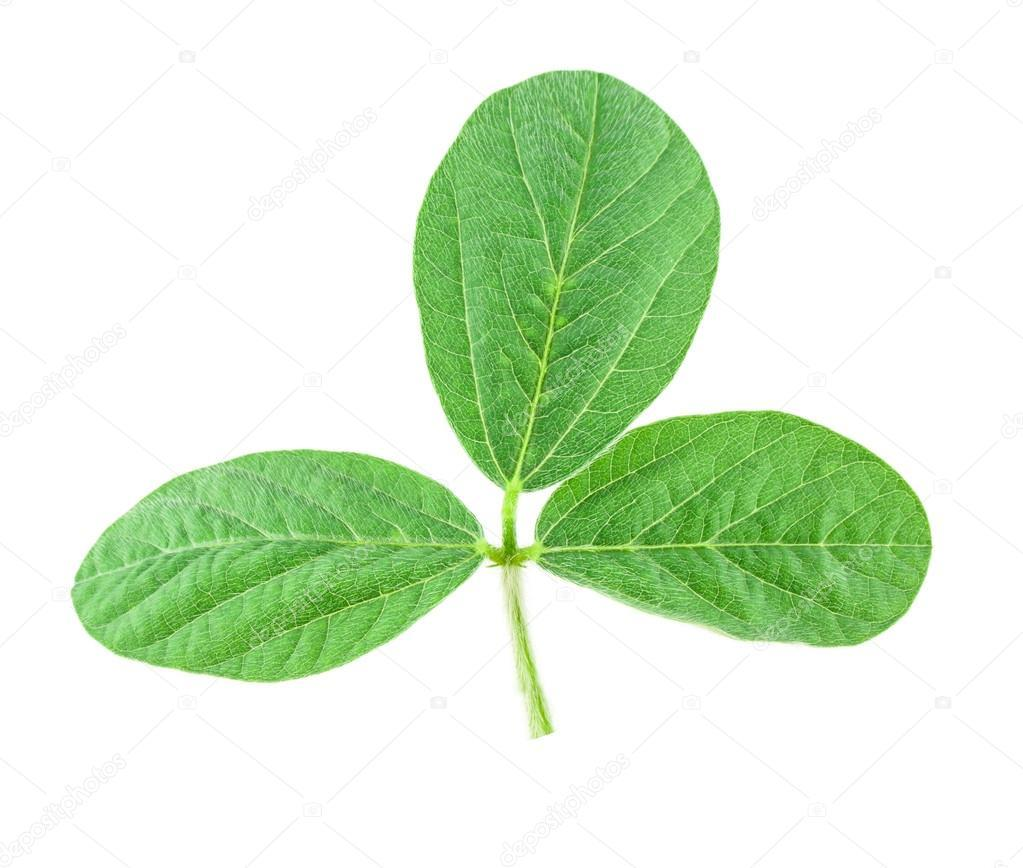Soyabean leaf: (409, 66, 725, 492), (64, 445, 488, 689), (533, 411, 935, 652)
